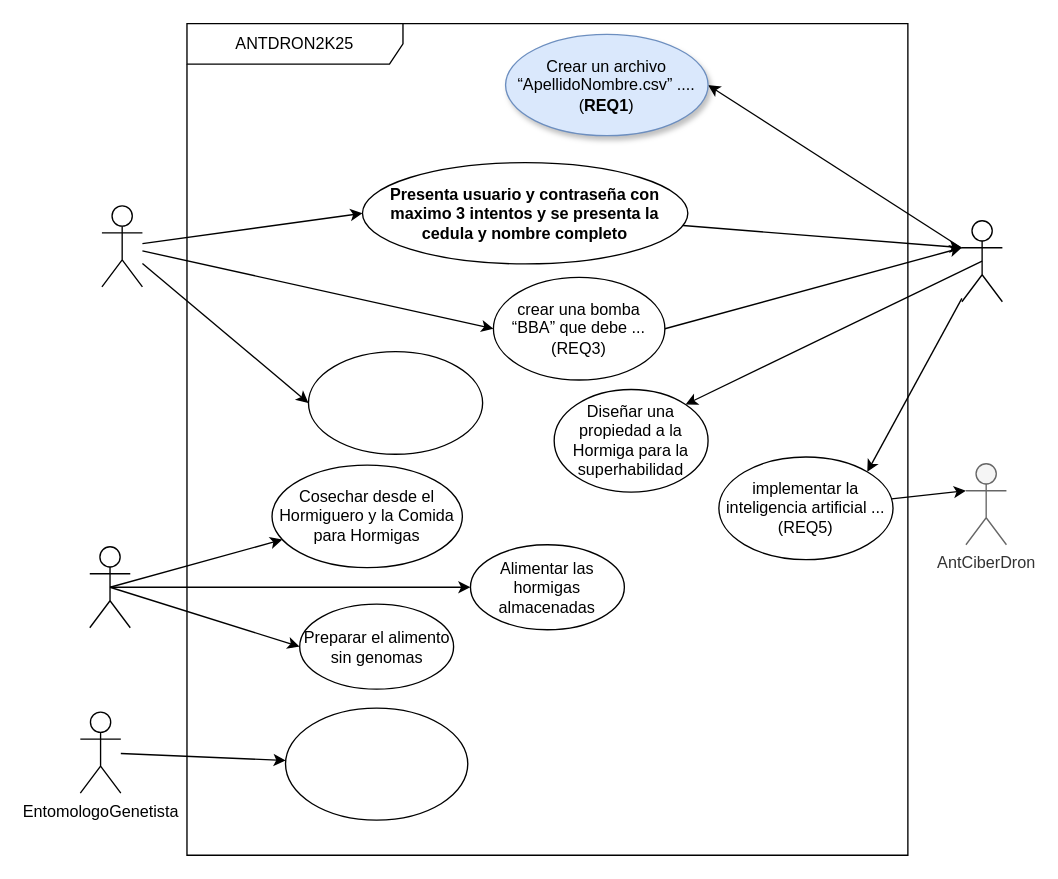
Image size: 1058x879. Some labels were removed from this diagram. The shapes that lost their labels are listed below. From the top down, each one's centre as x and y in pixels, then its label:
At point (121, 246): "KGD".
At point (981, 260): "SistemaRuso".
At point (395, 402): "crear un tipo de hormiga que derive de ... (REQ4)".
At point (109, 586): "Entomologo".
At point (376, 763): "Peparar el alimento inyectando un genoma aleatoriamente".
